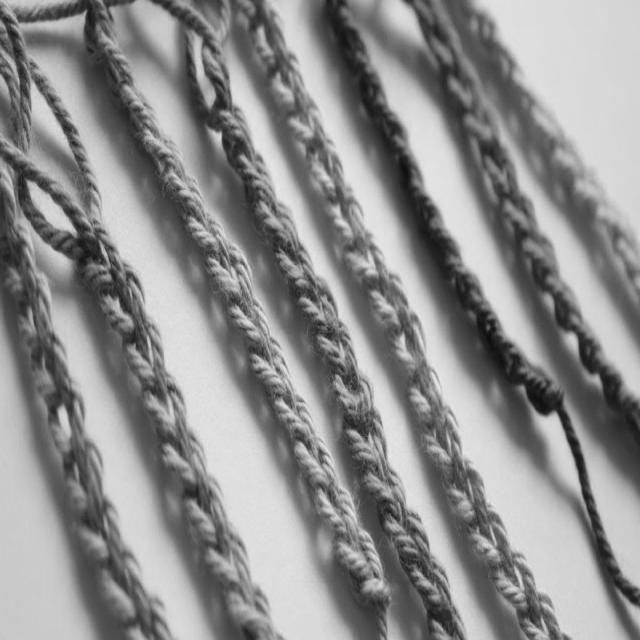ch: (95, 261, 152, 364), (76, 216, 130, 309), (420, 403, 470, 500), (443, 453, 495, 543), (159, 421, 209, 513), (490, 546, 543, 632), (141, 368, 189, 462), (467, 501, 518, 589), (335, 528, 390, 606), (97, 544, 150, 623), (77, 494, 124, 583), (180, 478, 230, 561), (203, 522, 253, 602), (49, 379, 86, 486), (408, 358, 449, 454), (121, 323, 167, 405), (30, 334, 71, 425), (250, 335, 297, 412), (64, 436, 102, 530), (385, 306, 428, 389), (344, 409, 389, 484), (208, 245, 253, 319), (228, 296, 274, 368), (322, 185, 367, 258), (402, 556, 451, 623), (379, 508, 429, 573), (315, 484, 359, 557), (250, 5, 289, 87), (0, 221, 36, 309), (368, 269, 411, 341), (273, 239, 319, 306), (20, 271, 52, 366), (297, 276, 340, 346), (314, 321, 357, 391), (360, 466, 407, 530), (268, 50, 308, 125), (187, 210, 231, 276), (255, 200, 299, 264), (344, 231, 388, 295), (335, 370, 372, 445), (270, 394, 315, 455), (236, 152, 278, 217), (118, 590, 170, 640), (465, 96, 500, 167), (226, 584, 271, 638), (307, 136, 343, 203), (421, 12, 460, 73), (407, 181, 443, 246), (294, 440, 337, 493), (218, 105, 255, 166), (483, 146, 520, 207), (517, 590, 562, 640), (445, 56, 481, 118), (121, 86, 163, 139), (329, 7, 368, 64), (288, 94, 325, 152), (144, 130, 186, 181), (567, 315, 603, 374), (517, 370, 558, 416), (167, 174, 205, 223), (545, 139, 586, 184), (428, 221, 461, 276), (524, 237, 561, 285), (547, 277, 581, 328), (595, 351, 624, 410), (503, 198, 540, 244), (358, 62, 387, 117), (0, 168, 16, 267), (570, 168, 609, 206), (472, 306, 504, 352), (394, 135, 421, 187), (495, 336, 527, 377), (454, 264, 483, 309), (382, 105, 408, 149)
